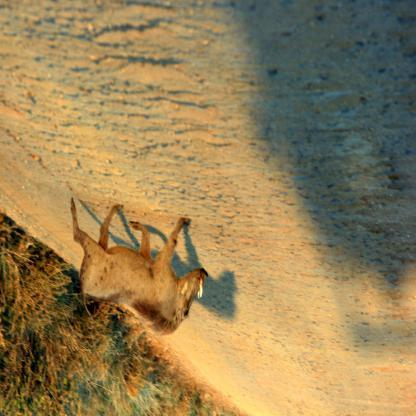boar: (69, 197, 209, 335)
